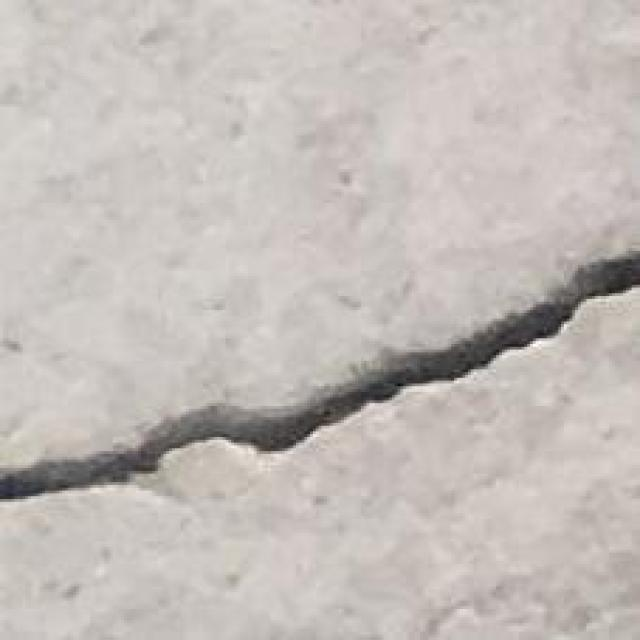Crack: (3, 228, 640, 530)
